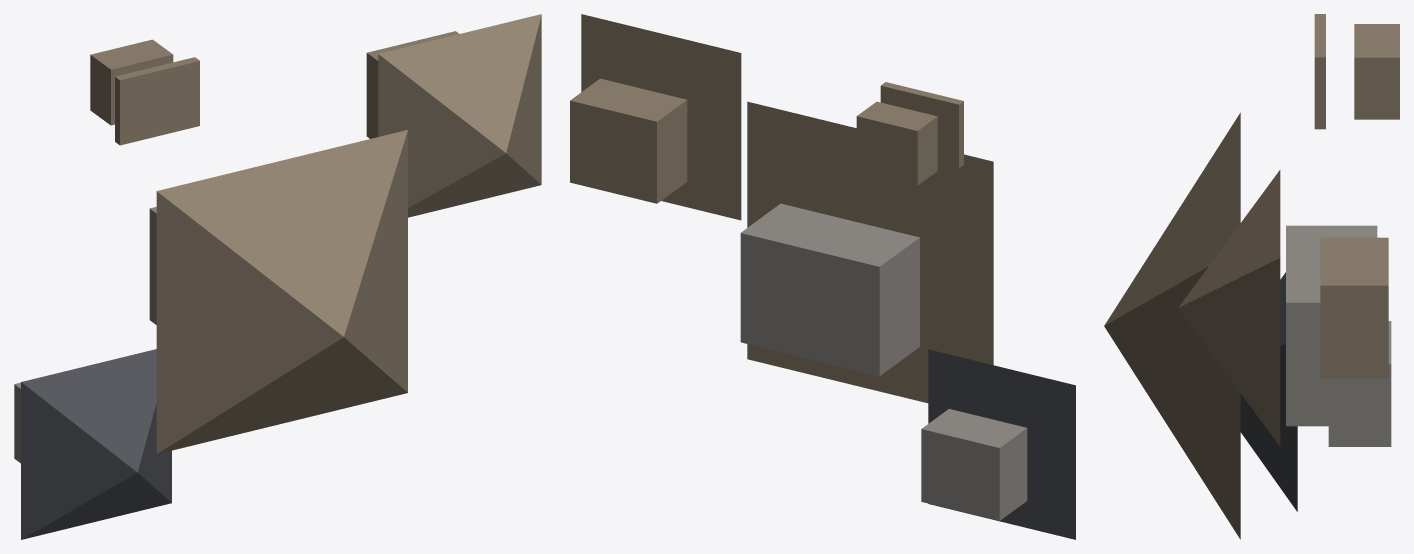
File: village.glb
The picture shows the model from 3 angles, left to right: view 1: azimuth 30°, elevation 25°; view 2: azimuth 150°, elevation 25°; view 3: azimuth 270°, elevation 25°; orthographic projection. The views are drawn at different scales.
Visible parts, largest first — view 1: Vill_Vill_Wood, Vill_Vill_Slate, Vill_Vill_Stone; view 2: Vill_Vill_Wood, Vill_Vill_Stone, Vill_Vill_Slate; view 3: Vill_Vill_Wood, Vill_Vill_Stone, Vill_Vill_Slate.
Part boxes in pixels (bbox=[...]): Vill_Vill_Wood: bbox=[90, 14, 541, 453]; Vill_Vill_Slate: bbox=[21, 349, 171, 539]; Vill_Vill_Stone: bbox=[14, 207, 156, 463]; Vill_Vill_Wood: bbox=[570, 14, 993, 403]; Vill_Vill_Stone: bbox=[740, 203, 1027, 520]; Vill_Vill_Slate: bbox=[928, 349, 1075, 539]; Vill_Vill_Wood: bbox=[1104, 14, 1399, 539]; Vill_Vill_Stone: bbox=[1286, 225, 1391, 446]; Vill_Vill_Slate: bbox=[1240, 272, 1297, 511].
Bounding box in the file's own units: 0.5768 × 0.4599 × 0.26.
